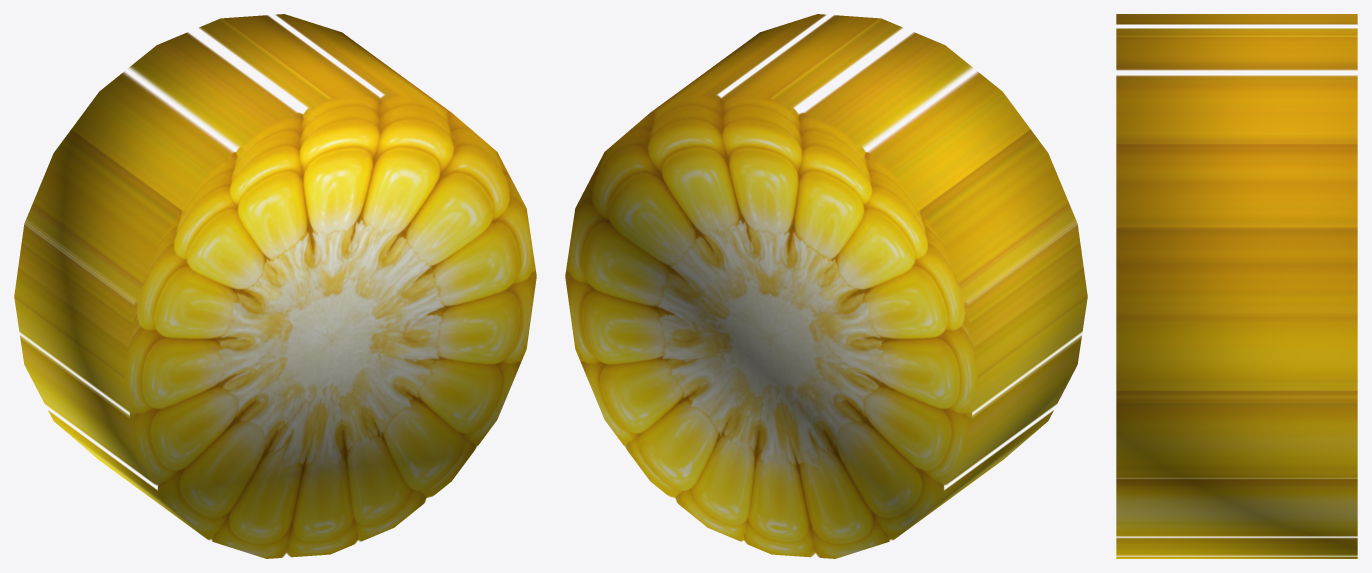
The model's file is corn.glb.
The picture shows the model from 3 angles, left to right: view 1: azimuth 30°, elevation 25°; view 2: azimuth 150°, elevation 25°; view 3: azimuth 270°, elevation 25°; orthographic projection. The views are drawn at different scales.
Parts seen in each view (by area): view 1: corn; view 2: corn; view 3: corn.
Part boxes in pixels (x1,y1,x2,y2): corn: [14, 14, 536, 558]; corn: [565, 14, 1087, 558]; corn: [1116, 14, 1357, 558].
Bounding box in the file's own units: 0.8721 × 0.92 × 0.4012.
Materials: 1 (1 with a texture image).
